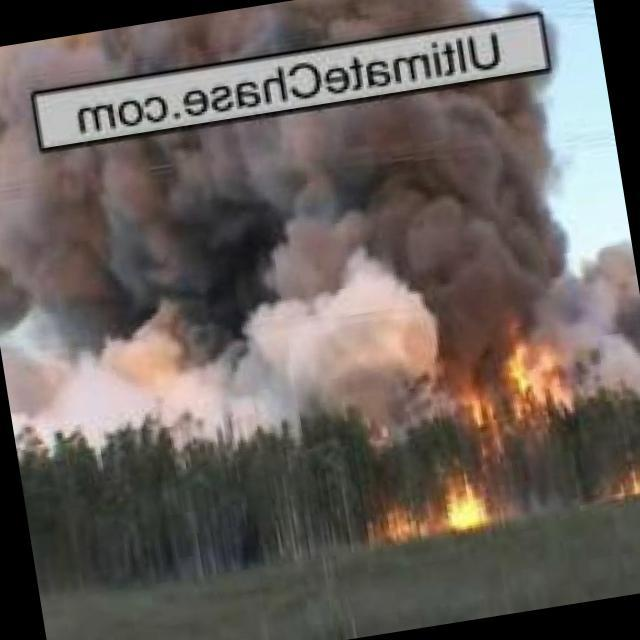Fire: (497, 304, 569, 412), (437, 459, 500, 531), (379, 510, 420, 545), (633, 467, 640, 490)
